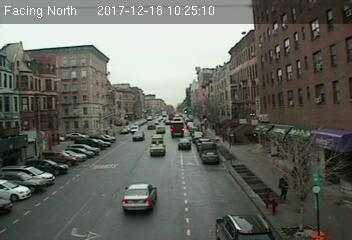car: (215, 211, 273, 239), (121, 184, 158, 209), (201, 149, 219, 162), (149, 142, 164, 153), (178, 138, 191, 148), (151, 135, 163, 143), (133, 132, 144, 139)
ups: (170, 121, 184, 137)
